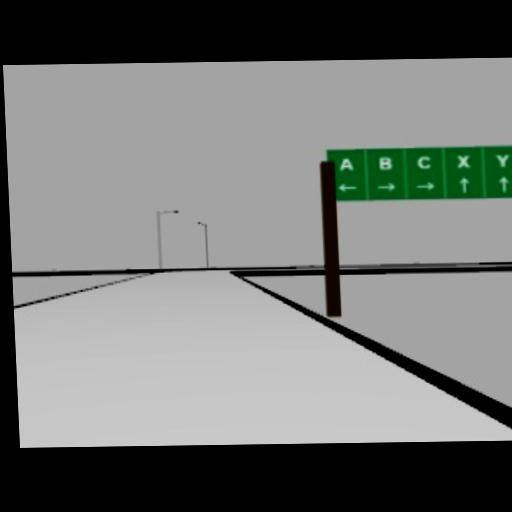A: (338, 156, 353, 170)
B: (377, 154, 392, 167)
C: (415, 153, 430, 168)
Left: (337, 181, 358, 189)
Right: (414, 180, 435, 190), (375, 180, 396, 189)
Straight: (457, 174, 470, 192), (497, 174, 510, 192)
X: (457, 153, 470, 166)
Y: (495, 152, 510, 165)
